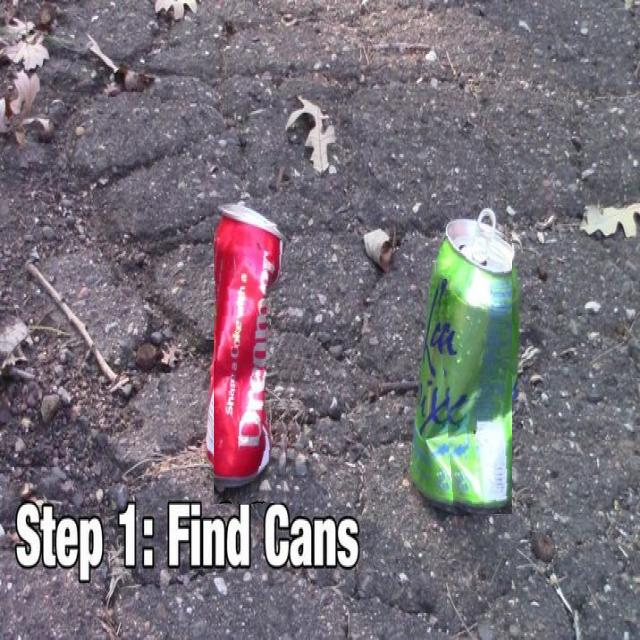Cans: (215, 218, 302, 504), (433, 228, 512, 514)
